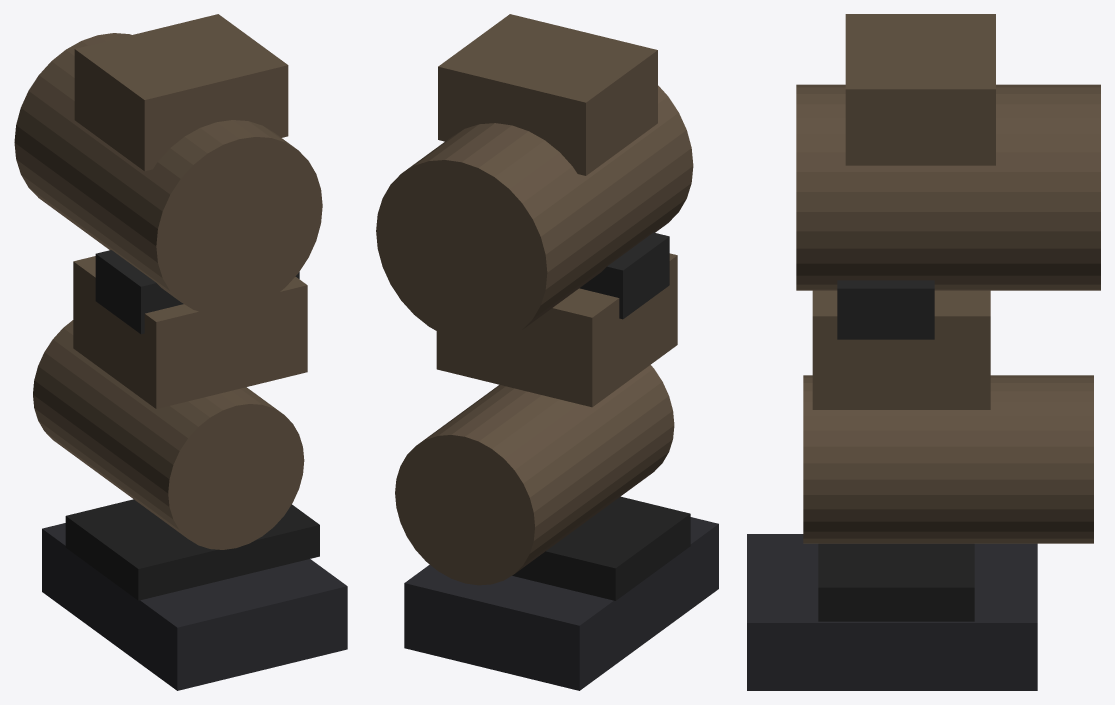
The model's file is leg_left_iron.obj.
3 views of the same model, side by side, from view 1: azimuth 30°, elevation 25°; view 2: azimuth 150°, elevation 25°; view 3: azimuth 270°, elevation 25° (orthographic). The views are drawn at different scales.
Bounding box in the file's own units: 0.648 × 1.89 × 1.02.
